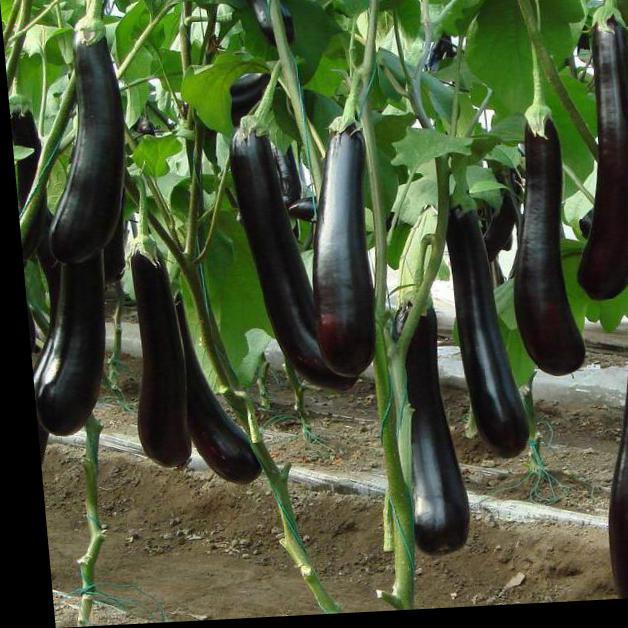eggplant: (412, 100, 613, 427), (210, 91, 387, 382), (44, 13, 169, 300)
